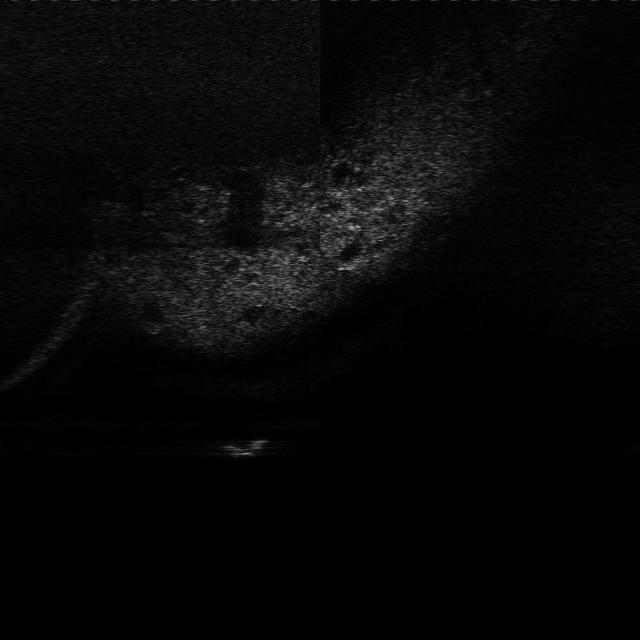cube: (226, 426, 273, 462)
